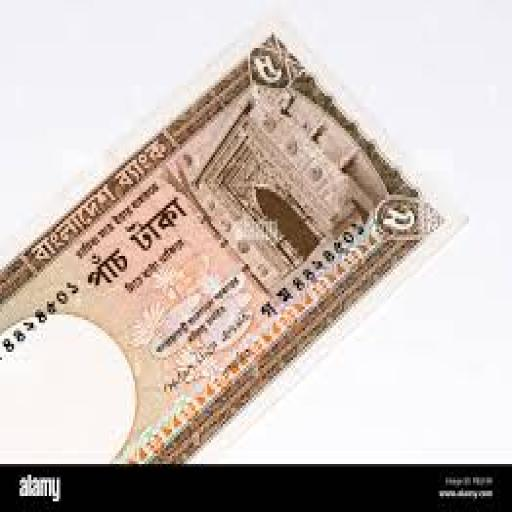5taka: (2, 17, 461, 465)
